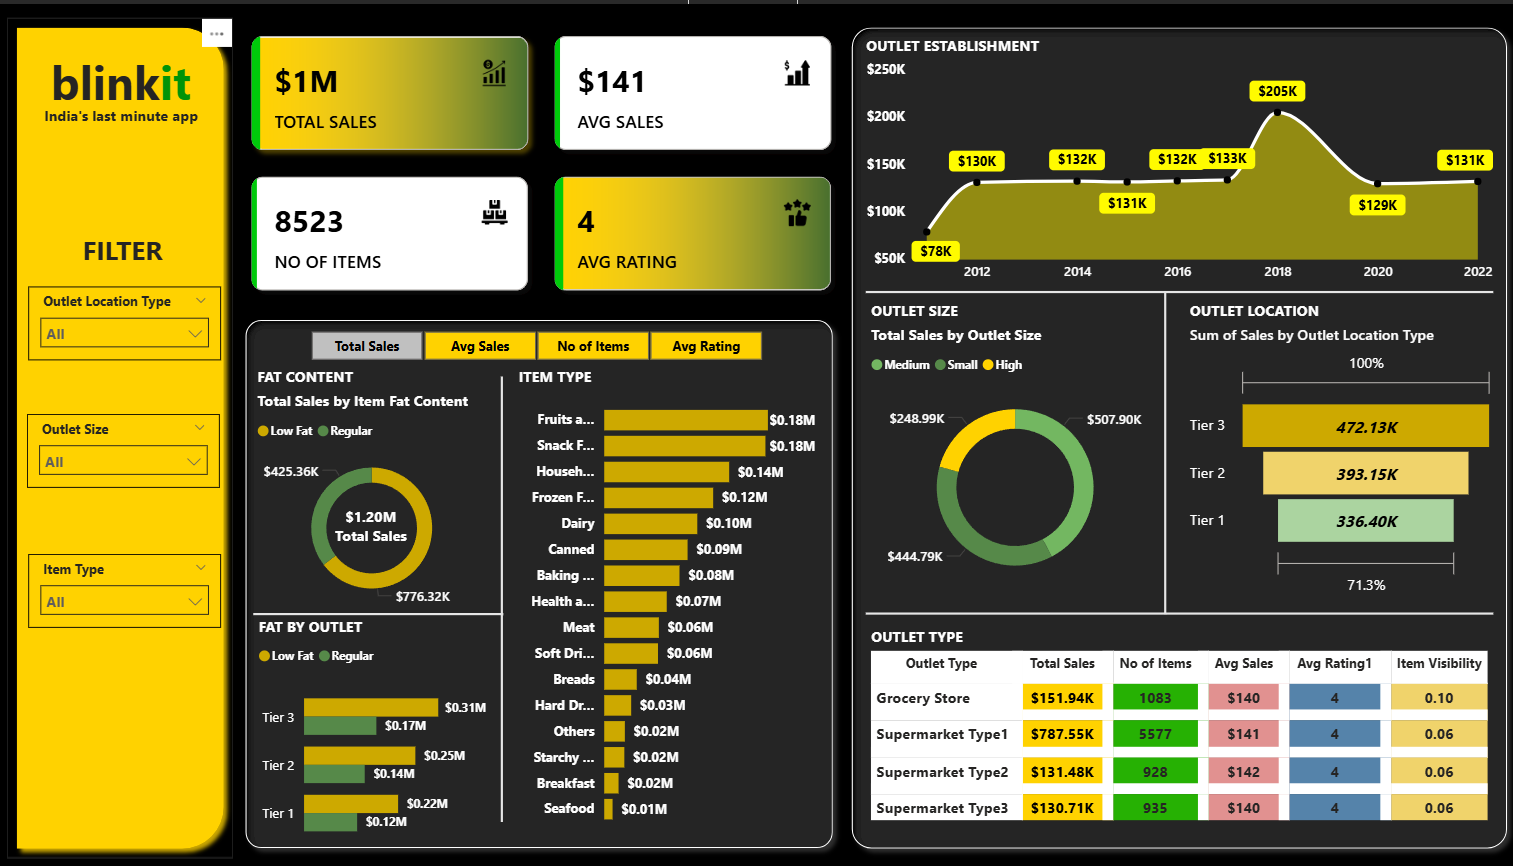

What the dashboard file says about the page in this screenshot:
{"tool":"powerbi","page":{"name":"Page 1","canvas":[1400,800],"ordinal":0},"visuals":[{"type":"shape","box":[9.5,12.3,208.6,774.4],"z":0,"group":"g1"},{"type":"cardVisual","fields":{"Data":["BlinkIT Grocery Data.total sales","BlinkIT Grocery Data.avg sales","BlinkIT Grocery Data.no of items","BlinkIT Grocery Data.avg rating"]},"box":[218.1,12.3,569.9,269.9],"z":0},{"type":"shape","box":[219.5,282.2,559,504.4],"z":1000},{"type":"donutChart","title":"FAT CONTENT","fields":{"Y":["BlinkIT Grocery Data.No of Items"],"Category":["BlinkIT Grocery Data.Item Fat Content"]},"box":[234.5,334,220.9,230.4],"z":2000},{"type":"slicer","fields":{"Values":["Metrics.Metrics"]},"box":[263.1,294.5,464.9,39.5],"z":3000},{"type":"cardVisual","fields":{"Data":["BlinkIT Grocery Data.No of Items"]},"box":[289,434.9,111.8,90],"z":4000},{"type":"clusteredBarChart","title":"FAT BY OUTLET","fields":{"Y":["BlinkIT Grocery Data.No of Items"],"Category":["BlinkIT Grocery Data.Outlet Location Type"],"Series":["BlinkIT Grocery Data.Item Fat Content"]},"box":[235.9,564.4,219.5,222.2],"z":5000},{"type":"shape","box":[235.9,550.8,230.4,23.2],"z":6000},{"type":"shape","box":[455.4,343.6,20.5,410.4],"z":7000},{"type":"barChart","title":"ITEM TYPE","fields":{"Y":["BlinkIT Grocery Data.No of Items"],"Category":["BlinkIT Grocery Data.Item Type"]},"box":[475.8,334,283.6,432.2],"z":8000},{"type":"shape","box":[778.5,12.3,621.7,774.4],"z":9000},{"type":"lineChart","title":"OUTLET ESTABLISHMENT","fields":{"Y":["BlinkIT Grocery Data.Total Sales"],"Category":["BlinkIT Grocery Data.Outlet Establishment Year"]},"box":[796.2,28.6,587.6,235.9],"z":10000},{"type":"shape","box":[800.3,250.9,578.1,28.6],"z":11000},{"type":"donutChart","title":"OUTLET SIZE","fields":{"Y":["BlinkIT Grocery Data.No of Items"],"Category":["BlinkIT Grocery Data.Outlet Size"]},"box":[800.3,272.7,275.4,278.1],"z":12000},{"type":"shape","box":[1056.6,264.5,38.2,297.2],"z":13000},{"type":"funnel","title":"OUTLET LOCATION","fields":{"Y":["Sum(BlinkIT Grocery Data.Sales)"],"Category":["BlinkIT Grocery Data.Outlet Location Type"]},"box":[1093.4,272.7,290.4,278.1],"z":14000},{"type":"shape","box":[800.3,549.4,578.1,24.5],"z":15000},{"type":"pivotTable","title":"OUTLET TYPE","fields":{"Rows":["BlinkIT Grocery Data.Outlet Type"],"Values":["BlinkIT Grocery Data.Total Sales","BlinkIT Grocery Data.No of Items","BlinkIT Grocery Data.Avg Sales","BlinkIT Grocery Data.Avg Rating1","Avg(BlinkIT Grocery Data.Item Visibility)"]},"box":[800.3,574,578.1,192.2],"z":16000},{"type":"group","id":"g1","title":"Group 1","box":[9.5,12.3,208.6,774.4],"z":17000},{"type":"textbox","box":[55.9,204.5,118.6,46.4],"z":18000},{"type":"slicer","fields":{"Values":["BlinkIT Grocery Data.Outlet Location Type"]},"box":[28.6,260.4,177.2,68.2],"z":19000,"group":"g1"},{"type":"slicer","fields":{"Values":["BlinkIT Grocery Data.Outlet Size"]},"box":[27.8,377.3,177.2,68.2],"z":20000,"group":"g1"},{"type":"slicer","fields":{"Values":["BlinkIT Grocery Data.Item Type"]},"box":[28.6,505.8,177.2,68.2],"z":21000,"group":"g1"},{"type":"textbox","box":[31.3,36.8,166.3,68.2],"z":22000,"group":"g1"},{"type":"textbox","box":[23.1,88.6,182.7,32.7],"z":22500,"group":"g1"}]}

Visuals, with their boxes in screenshot pixels (x1, y1, x2, y2), scaled from the page's 1400x800 canvas onto the 1513x866 screenshot:
shape: {"left": 10, "top": 13, "right": 236, "bottom": 852}
cardVisual - BlinkIT Grocery Data.total sales x BlinkIT Grocery Data.avg sales: {"left": 236, "top": 13, "right": 852, "bottom": 305}
shape: {"left": 237, "top": 305, "right": 841, "bottom": 851}
"FAT CONTENT" donutChart: {"left": 253, "top": 362, "right": 492, "bottom": 611}
slicer - Metrics.Metrics: {"left": 284, "top": 319, "right": 787, "bottom": 362}
cardVisual - BlinkIT Grocery Data.No of Items: {"left": 312, "top": 471, "right": 433, "bottom": 568}
"FAT BY OUTLET" clusteredBarChart: {"left": 255, "top": 611, "right": 492, "bottom": 851}
shape: {"left": 255, "top": 596, "right": 504, "bottom": 621}
shape: {"left": 492, "top": 372, "right": 514, "bottom": 816}
"ITEM TYPE" barChart: {"left": 514, "top": 362, "right": 821, "bottom": 829}
shape: {"left": 841, "top": 13, "right": 1512, "bottom": 852}
"OUTLET ESTABLISHMENT" lineChart: {"left": 860, "top": 31, "right": 1495, "bottom": 286}
shape: {"left": 865, "top": 272, "right": 1490, "bottom": 303}
"OUTLET SIZE" donutChart: {"left": 865, "top": 295, "right": 1163, "bottom": 596}
shape: {"left": 1142, "top": 286, "right": 1183, "bottom": 608}
"OUTLET LOCATION" funnel: {"left": 1182, "top": 295, "right": 1495, "bottom": 596}
shape: {"left": 865, "top": 595, "right": 1490, "bottom": 621}
"OUTLET TYPE" pivotTable: {"left": 865, "top": 621, "right": 1490, "bottom": 829}
"Group 1" group: {"left": 10, "top": 13, "right": 236, "bottom": 852}
textbox: {"left": 60, "top": 221, "right": 189, "bottom": 272}
slicer - BlinkIT Grocery Data.Outlet Location Type: {"left": 31, "top": 282, "right": 222, "bottom": 356}
slicer - BlinkIT Grocery Data.Outlet Size: {"left": 30, "top": 408, "right": 222, "bottom": 482}
slicer - BlinkIT Grocery Data.Item Type: {"left": 31, "top": 548, "right": 222, "bottom": 621}
textbox: {"left": 34, "top": 40, "right": 214, "bottom": 114}
textbox: {"left": 25, "top": 96, "right": 222, "bottom": 131}
